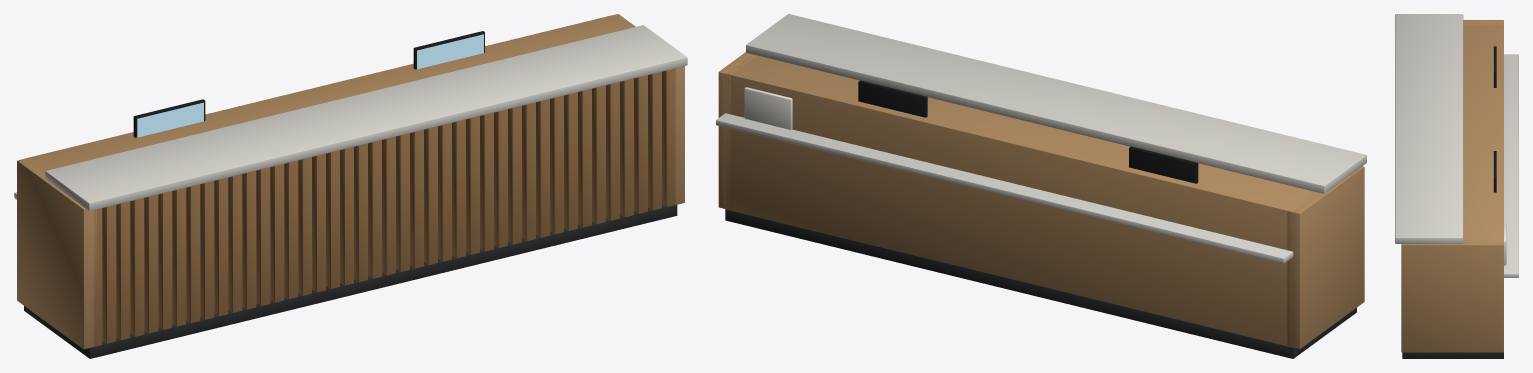
File: vantage_front_desk.glb
3 views of the same model, side by side, from view 1: azimuth 30°, elevation 25°; view 2: azimuth 150°, elevation 25°; view 3: azimuth 270°, elevation 25° (orthographic). The views are drawn at different scales.
Parts seen in each view (by area): view 1: vantage_front_desk; view 2: vantage_front_desk; view 3: vantage_front_desk.
Part boxes in pixels (box(x1,y1,x2,y2)): vantage_front_desk: box(14, 14, 687, 358); vantage_front_desk: box(716, 14, 1366, 358); vantage_front_desk: box(1395, 14, 1518, 358).
Size of the model in its own units: 4.3 by 1.18 by 1.
